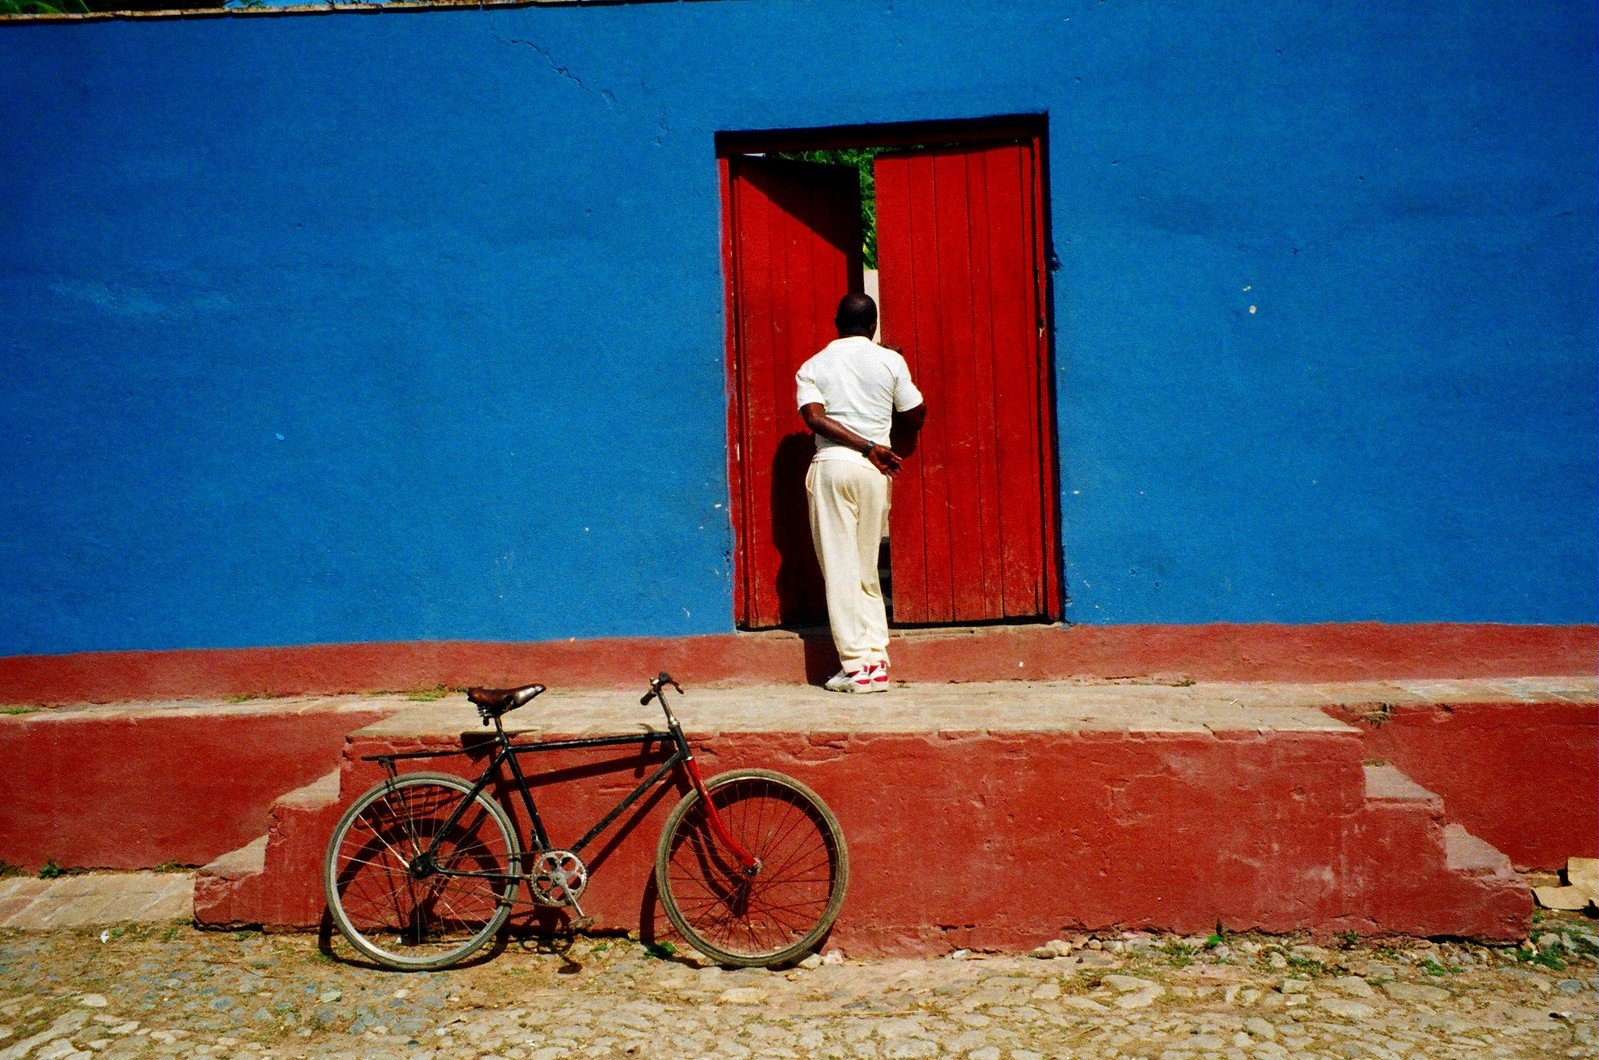Bicycle: (225, 134, 1482, 1060)
